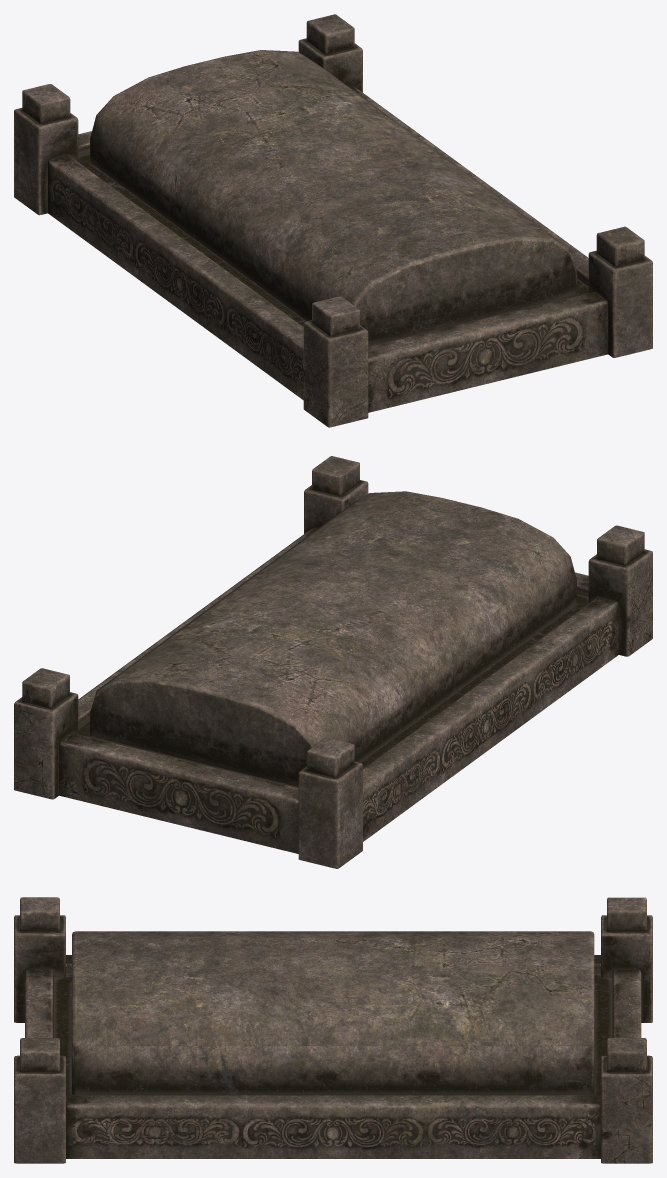
The model's file is SM_tombstone_36.fbx.
3 renders of one model, top to bottom at view 1: azimuth 30°, elevation 25°; view 2: azimuth 150°, elevation 25°; view 3: azimuth 270°, elevation 25°, orthographic.
Parts seen in each view (by area): view 1: SM_tombstone_036; view 2: SM_tombstone_036; view 3: SM_tombstone_036.
Boxes of the visible parts, x1,y1,x2,y2 form: SM_tombstone_036: (14,14,652,427); SM_tombstone_036: (14,456,652,868); SM_tombstone_036: (14,897,652,1163).
Size of the model in its own units: 132 by 45.62 by 221.
